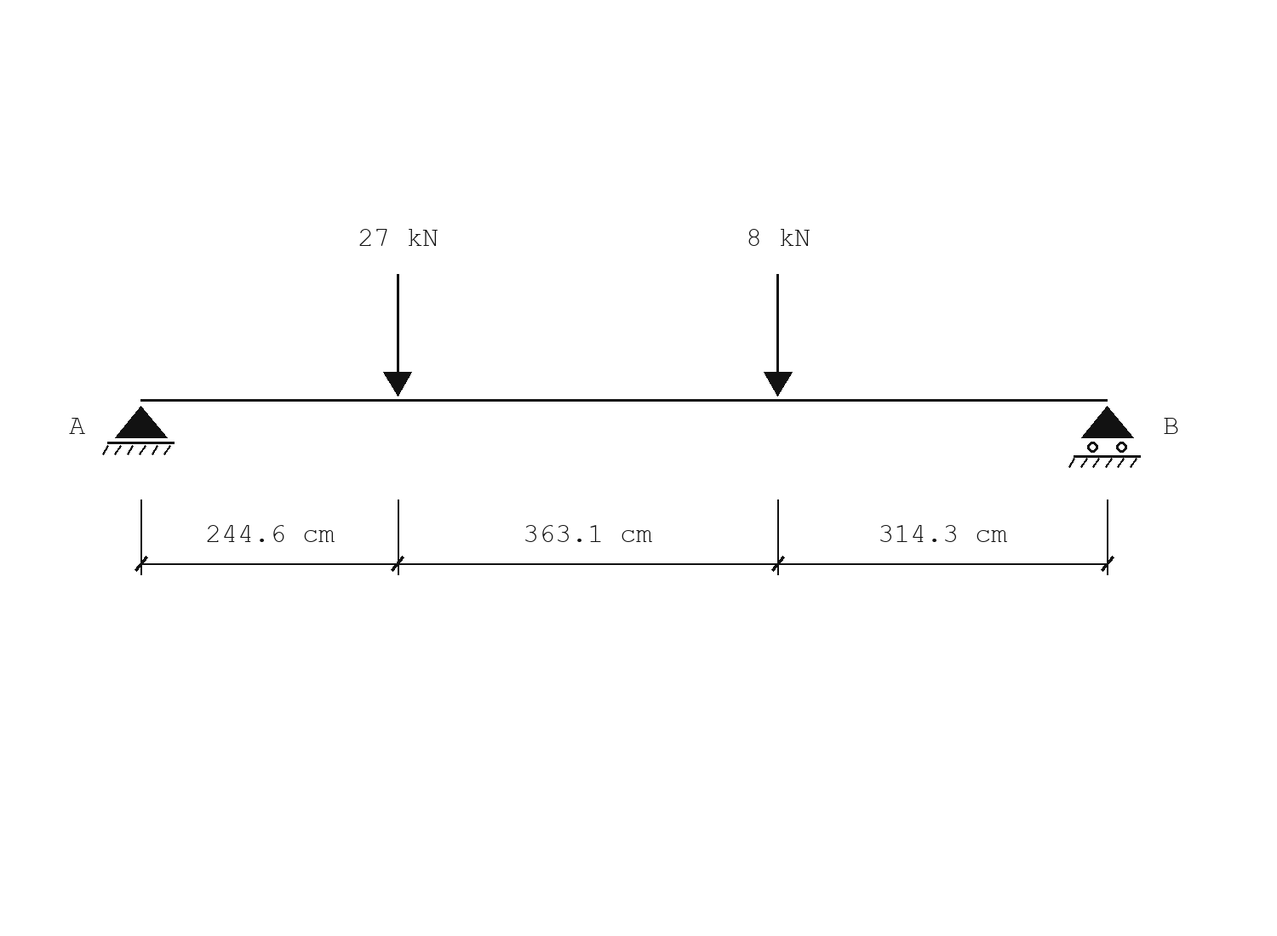pin_support: (102, 406, 175, 455)
point_load: (383, 274, 412, 397), (764, 274, 793, 397)
roller_support: (1068, 406, 1141, 468)
